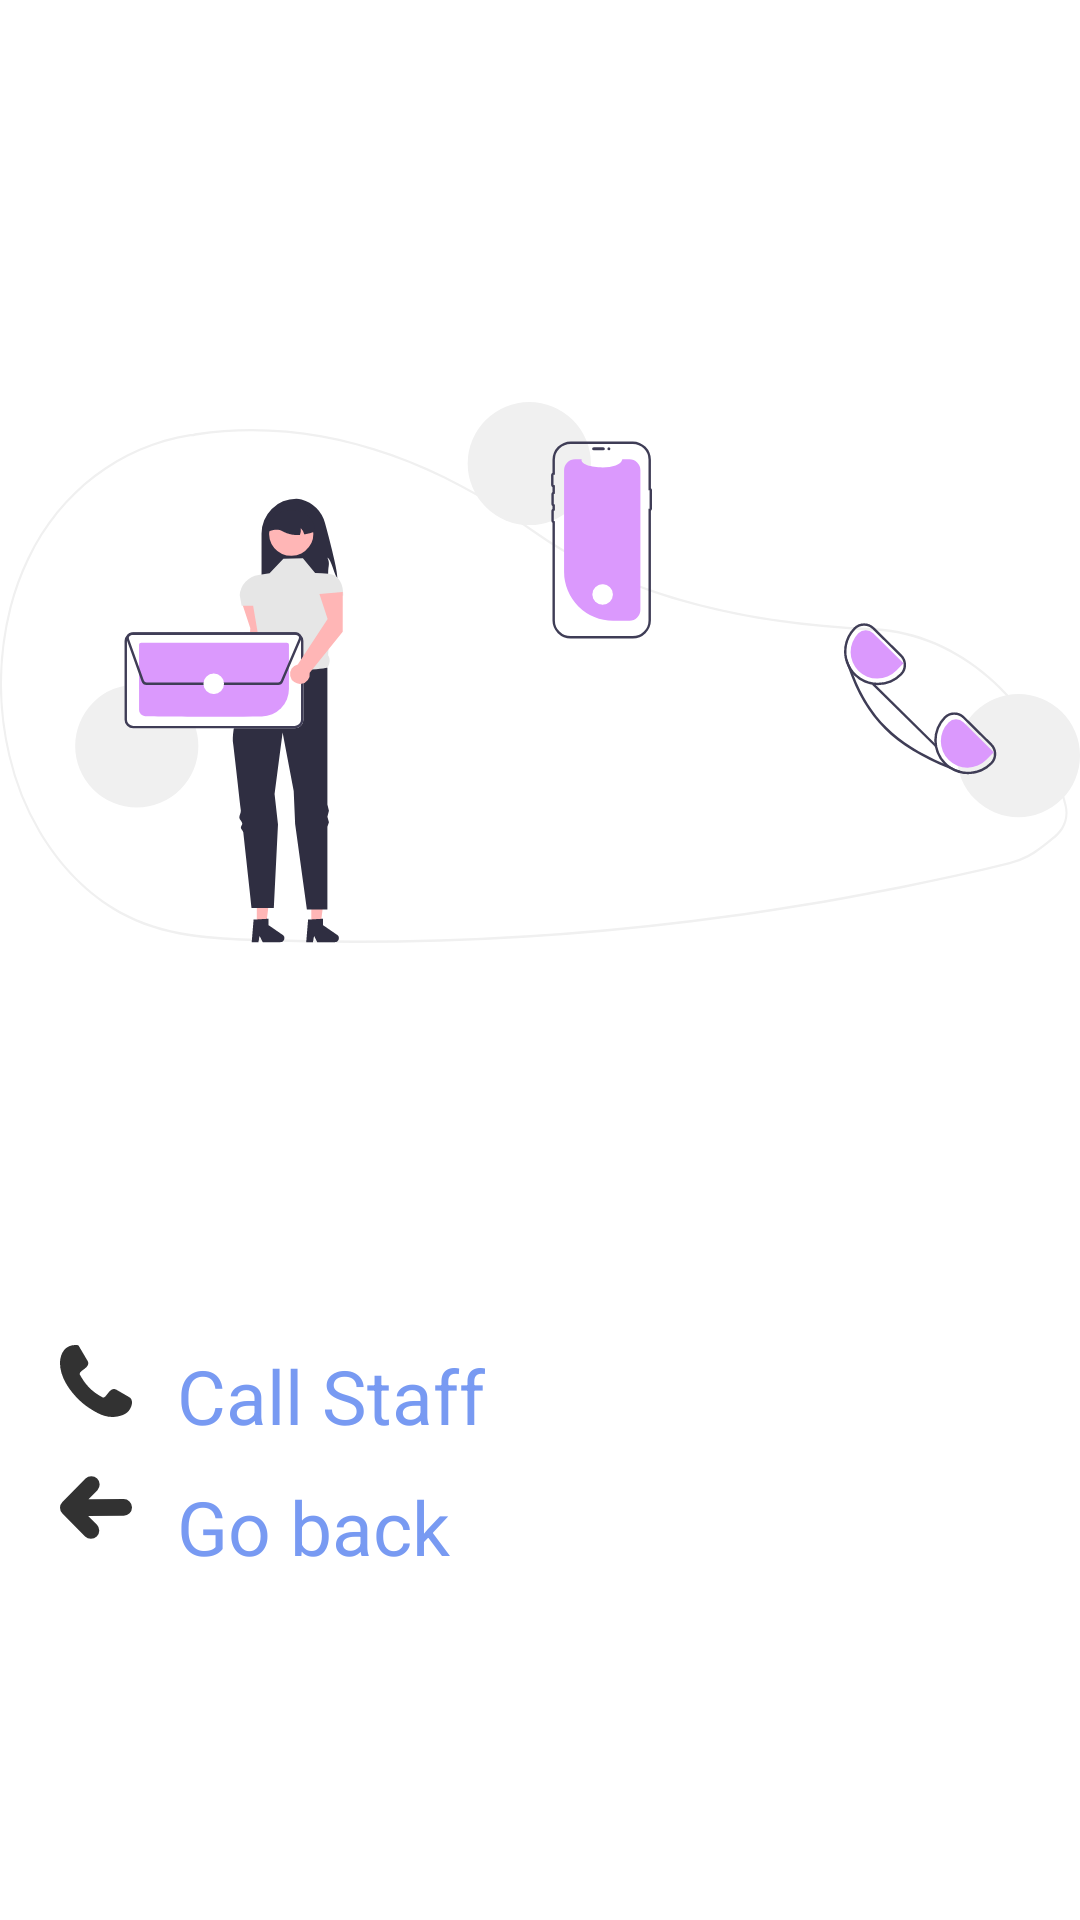

Point at icon controls on the screen. Image size 1080*1920, points as point (x, y).
back arrow: point (96, 1507)
phone call: point (96, 1381)
